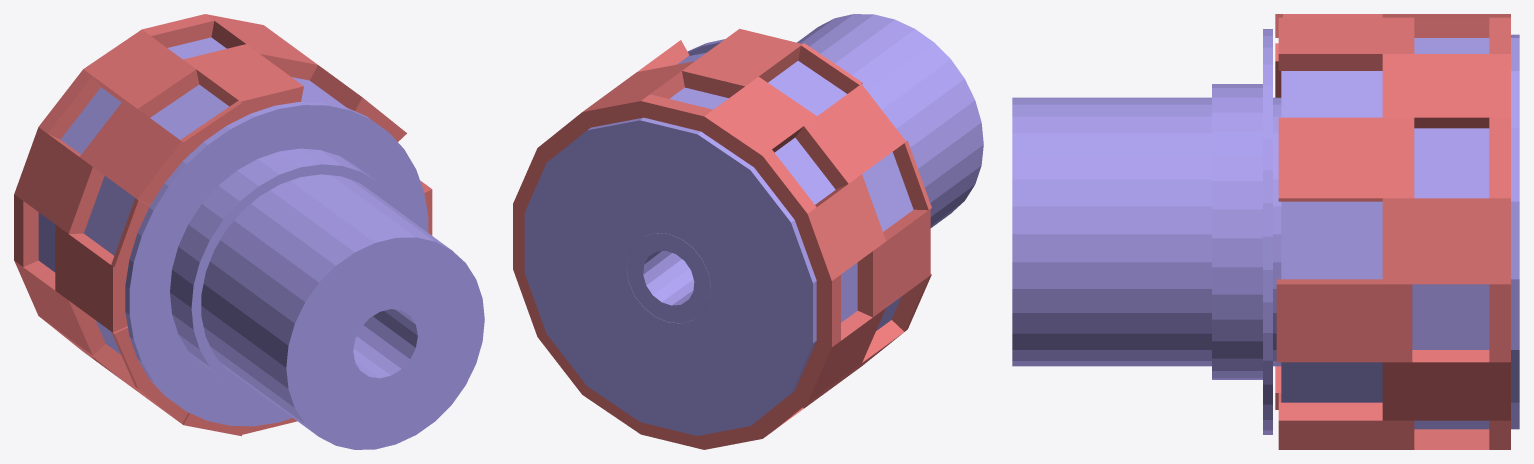
The model's file is Small-Wheel-Hub-SideA.glb.
3 views of the same model, side by side, from view 1: azimuth 30°, elevation 25°; view 2: azimuth 150°, elevation 25°; view 3: azimuth 270°, elevation 25° (orthographic). The views are drawn at different scales.
Parts seen in each view (by area): view 1: null; view 2: null; view 3: null.
Part boxes in pixels (x1=…): null: x1=14, y1=14, x2=484, y2=449; null: x1=513, y1=14, x2=983, y2=449; null: x1=1012, y1=14, x2=1519, y2=449.
Bounding box in the file's own units: 1.7 × 1.7 × 2.
